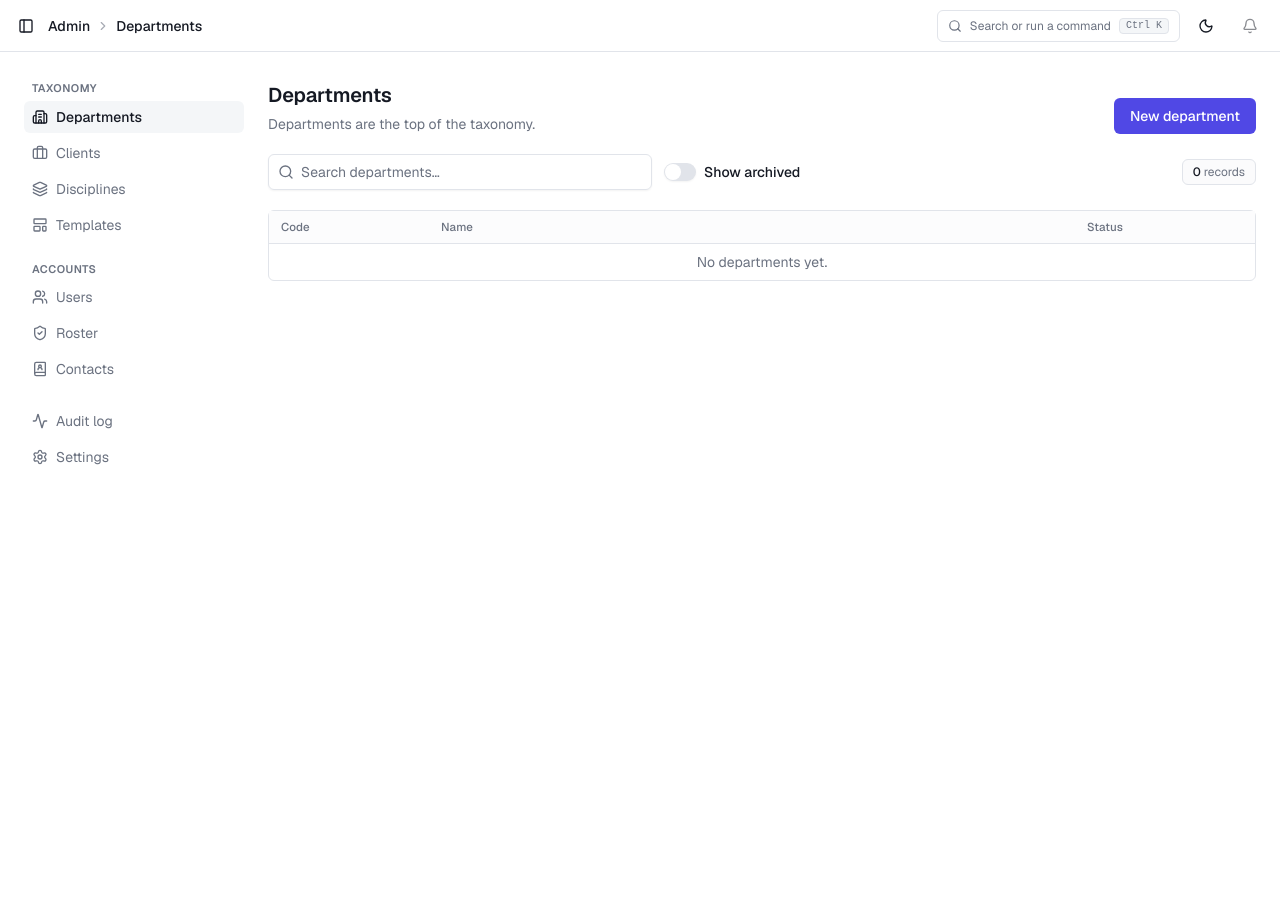
Test: TaxonomyManagePage (departments) › blocks submit when code is empty
This screenshot has width=1280, height=900.
Check: the text "No departments yet." is shown, box [269,244,1255,280]
Click the button "New department": [1185, 116] box [1114,98,1256,134]
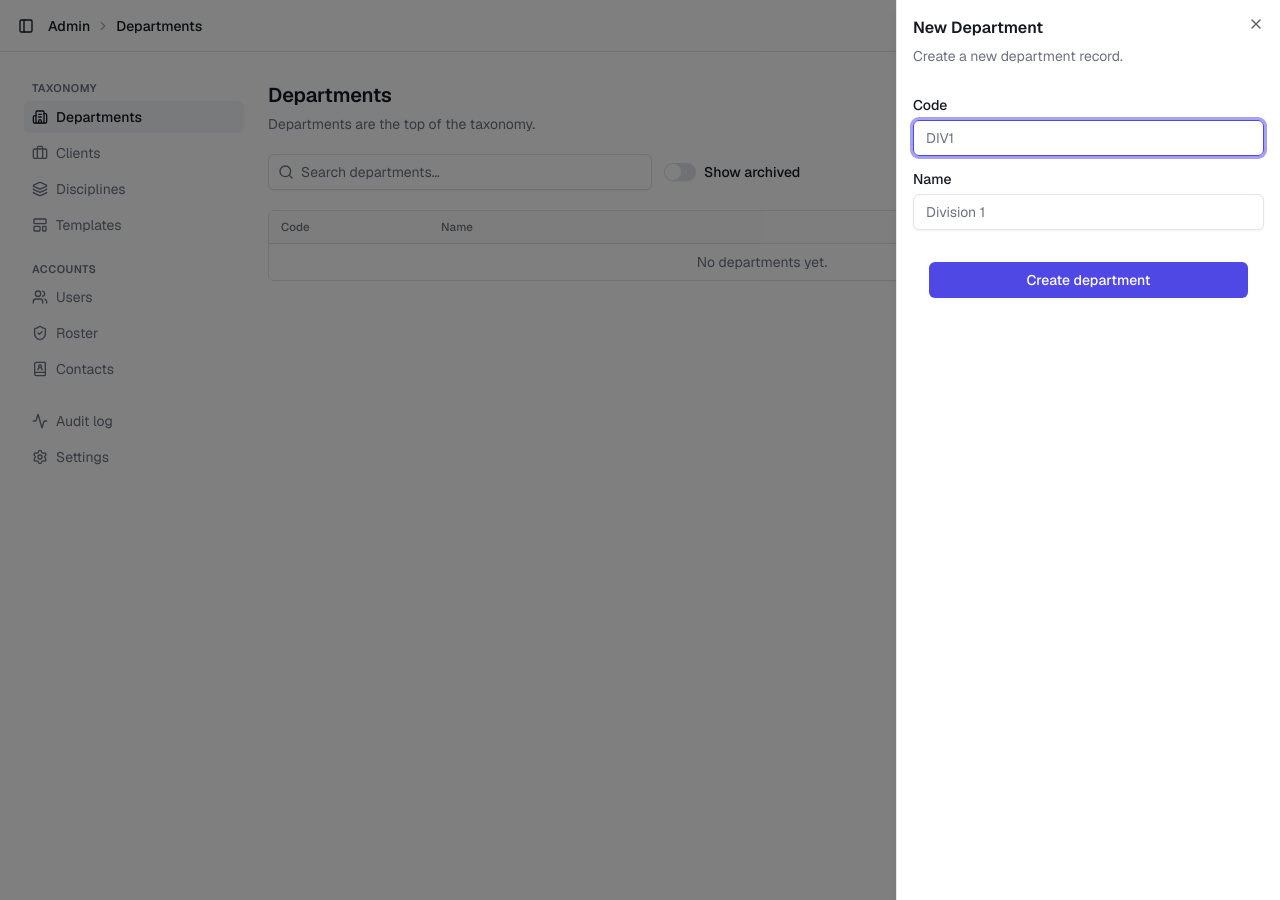
In the field labelled "Name": [1088, 212] box [913,194,1264,230], type "No code"
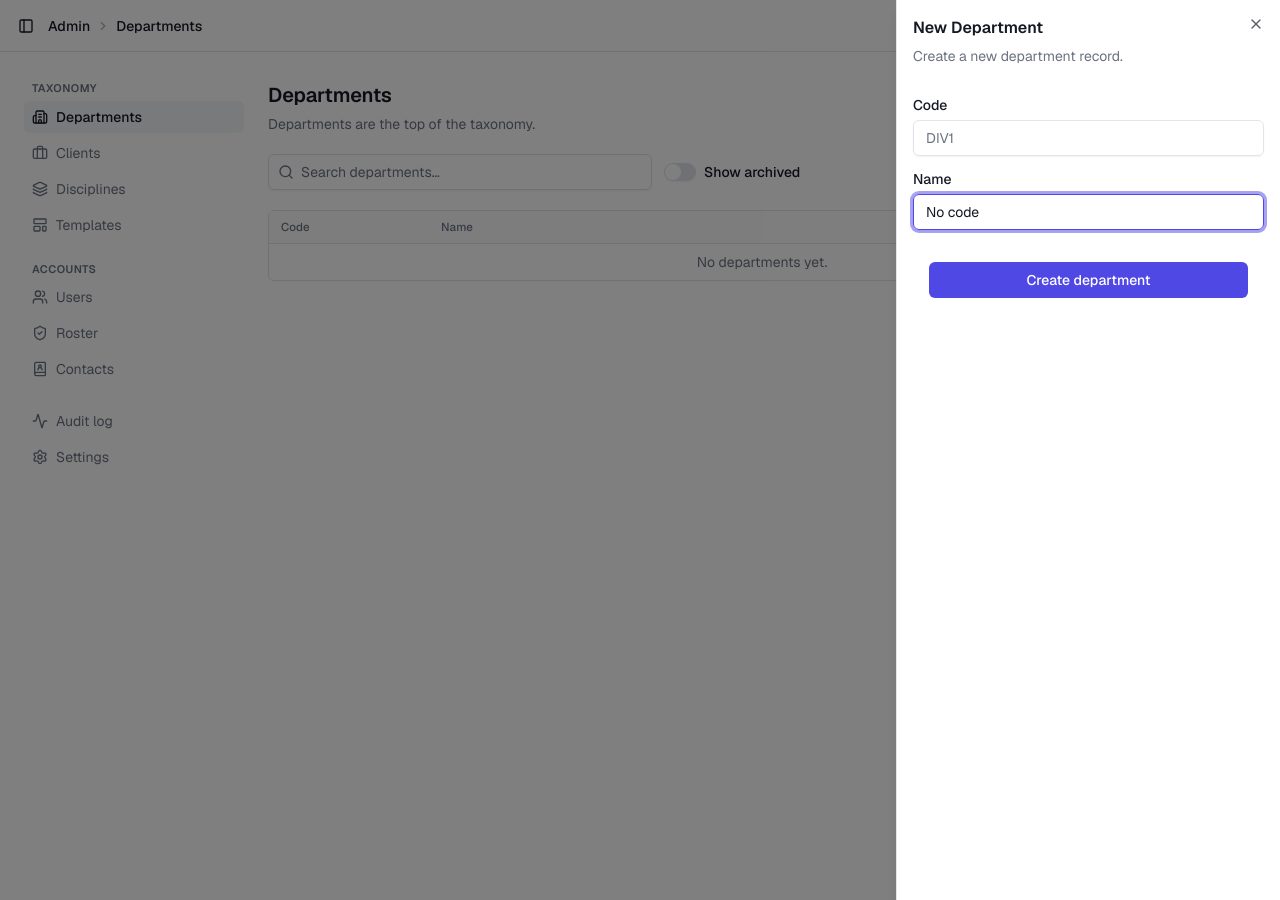
Click the button "Create department": [1088, 280] box [929,262,1248,298]
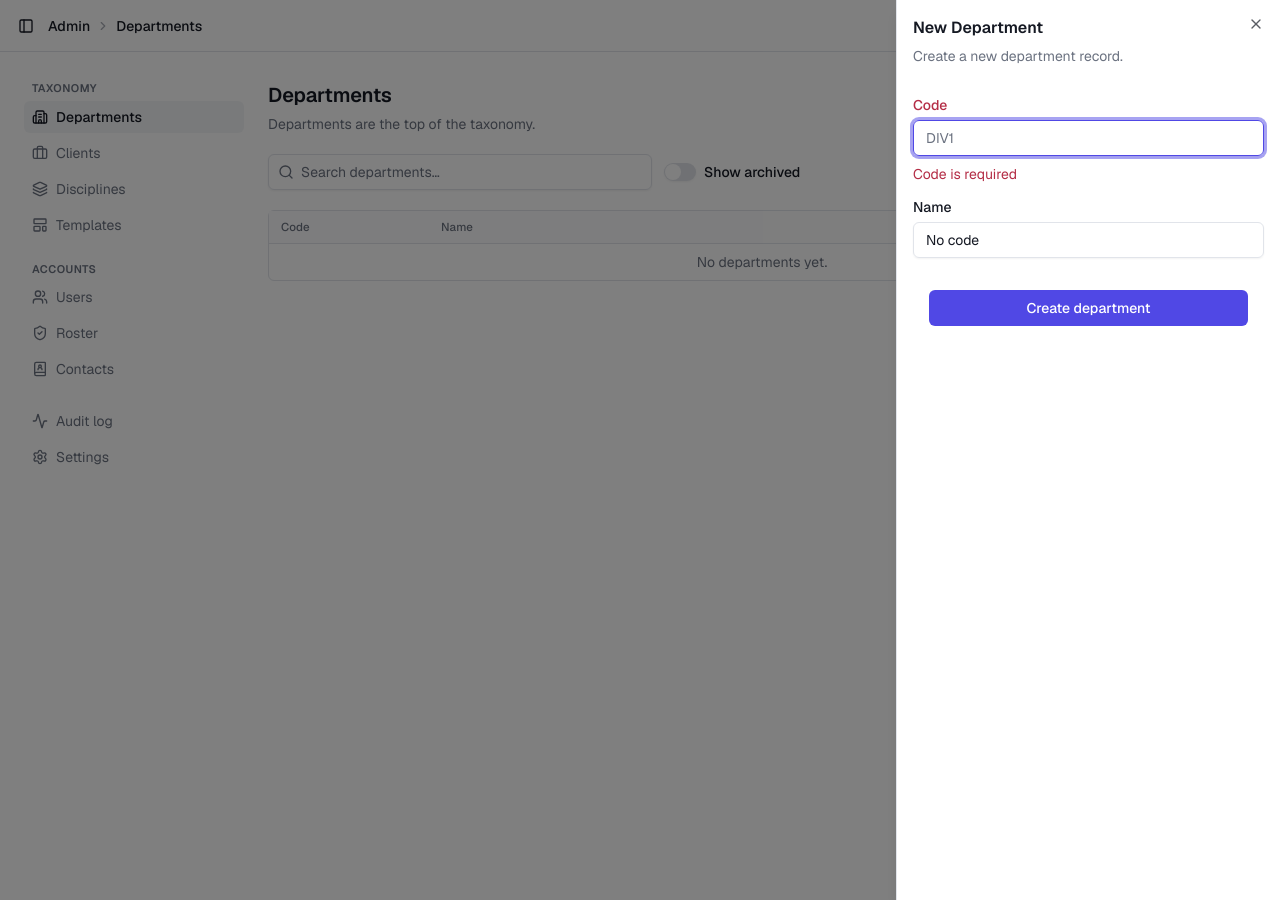
Check: the text "Code is required" is shown, box [913,165,1017,183]
